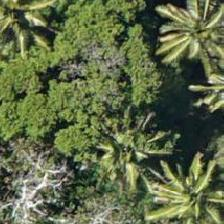coconut_tree: (64, 105, 154, 195), (134, 145, 223, 223), (158, 0, 223, 66)
